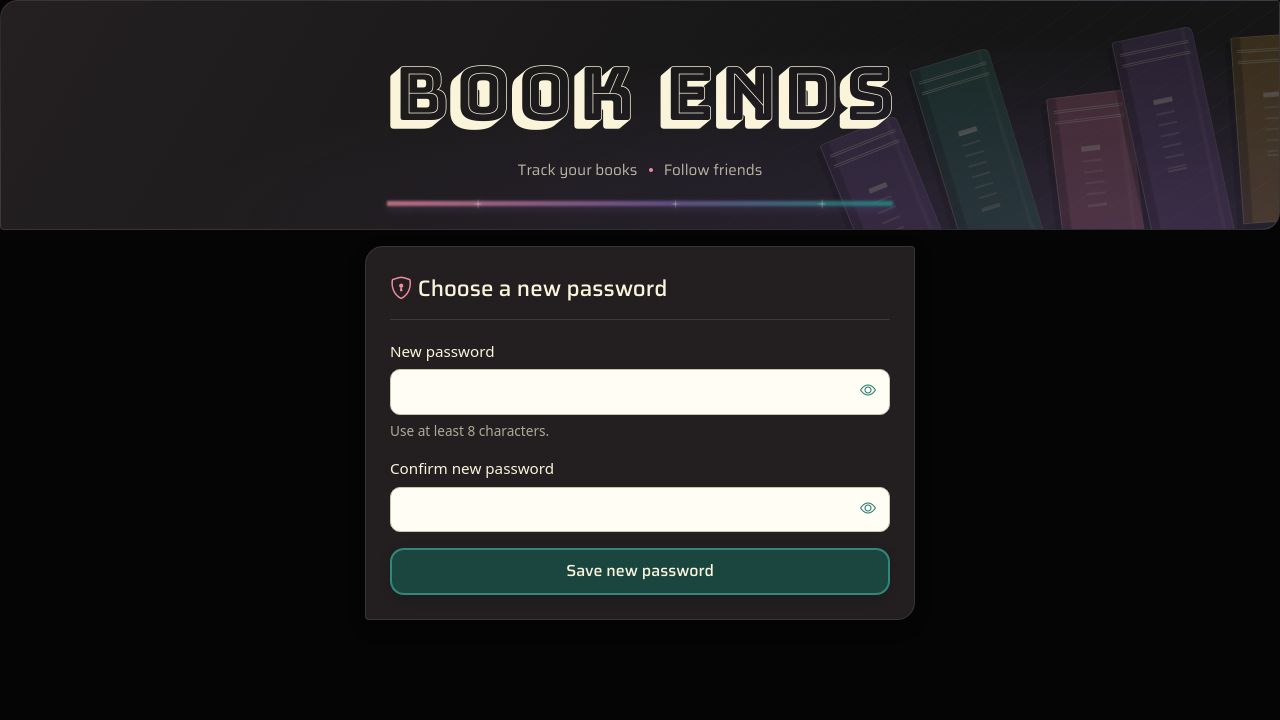
Test: Reset password page › renders the new-password form only after verification and shows success after saving
Type "new-password" into the password field with id "new-password" at (640, 392), box [390, 369, 890, 415]
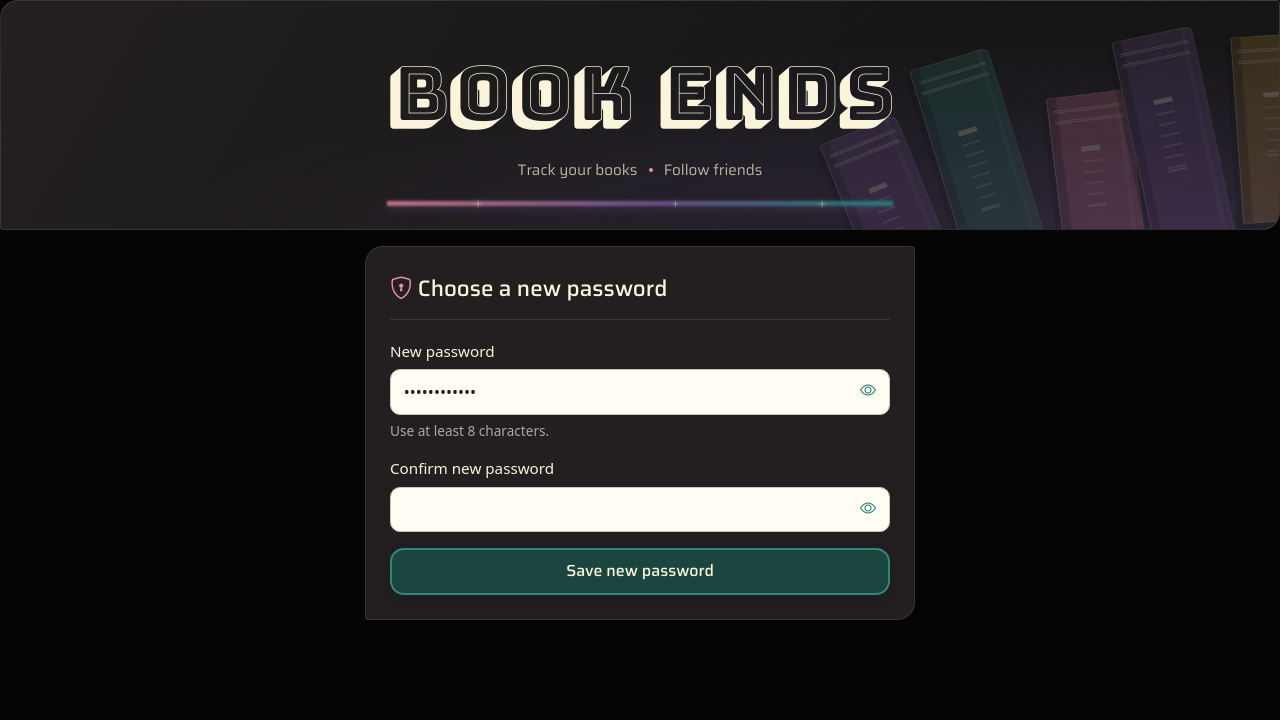
Type "new-password" into the password field labelled "Confirm new password" at (640, 509), box [390, 486, 890, 532]
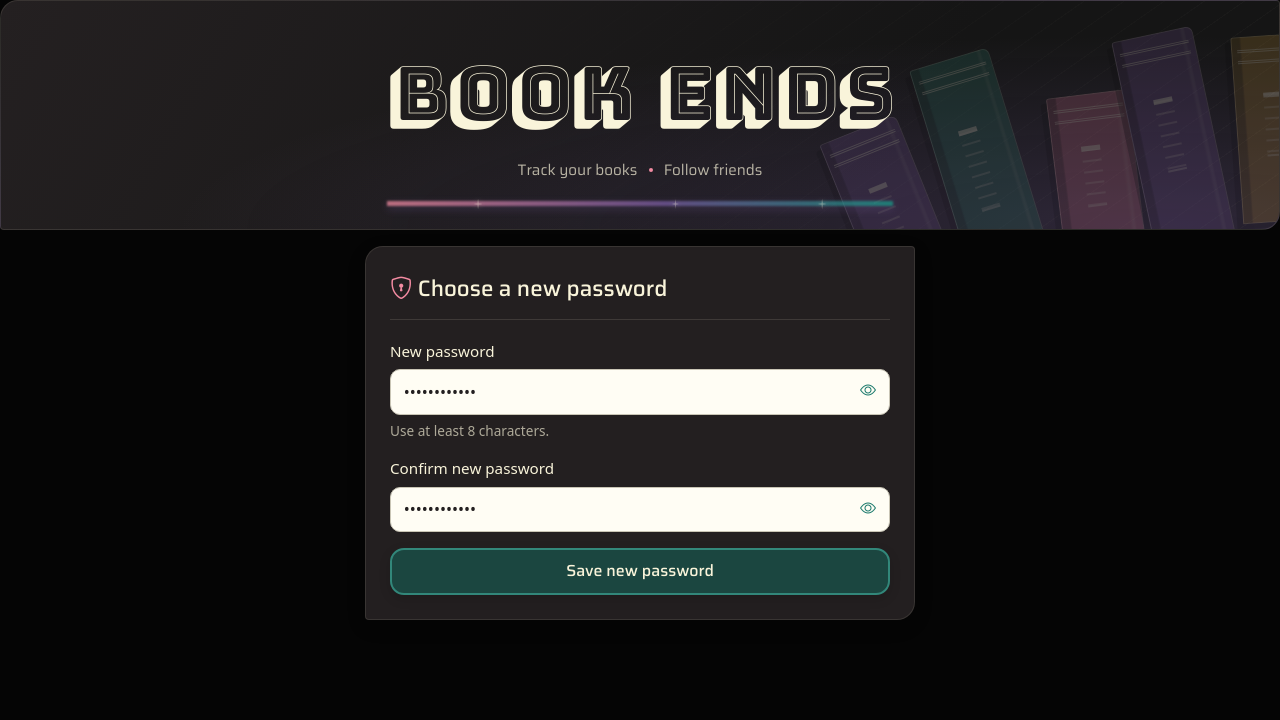
Submit the form, box [390, 340, 890, 595]
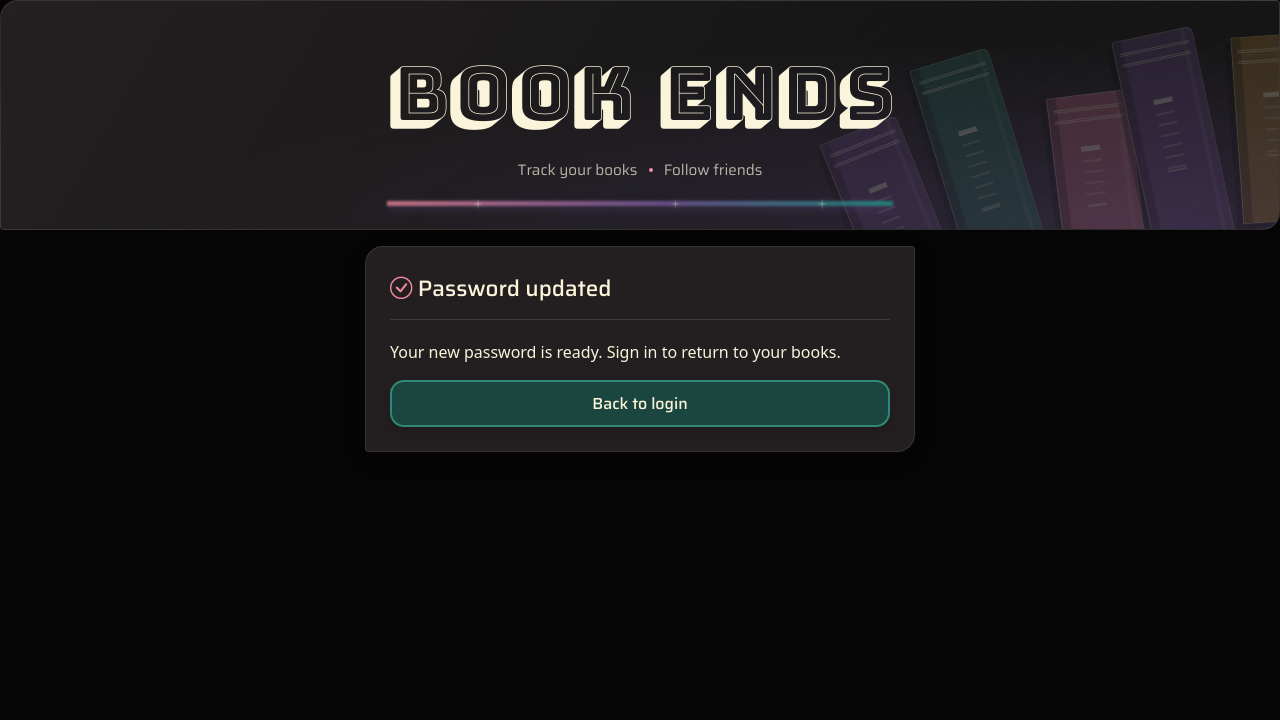
expect the text "Password updated" is shown: met, box [390, 271, 890, 320]
expect the label with id "new-password" is gone: met
